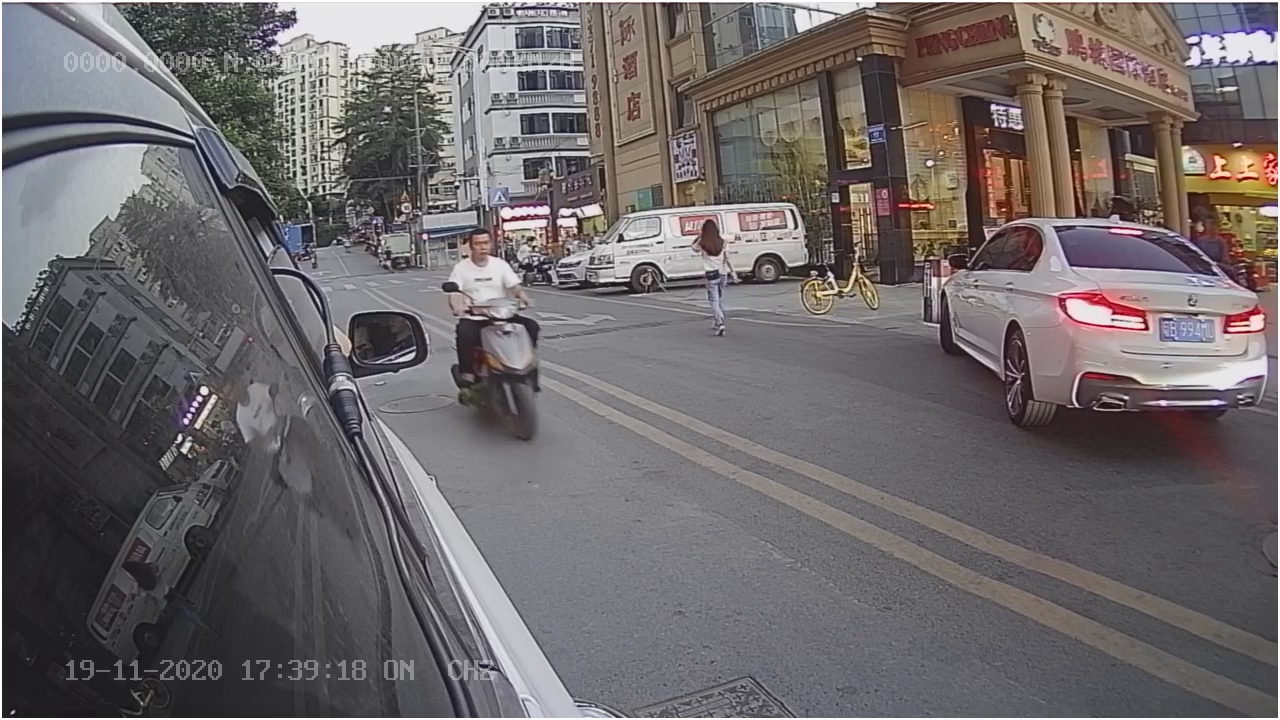person: (440, 228, 530, 322)
